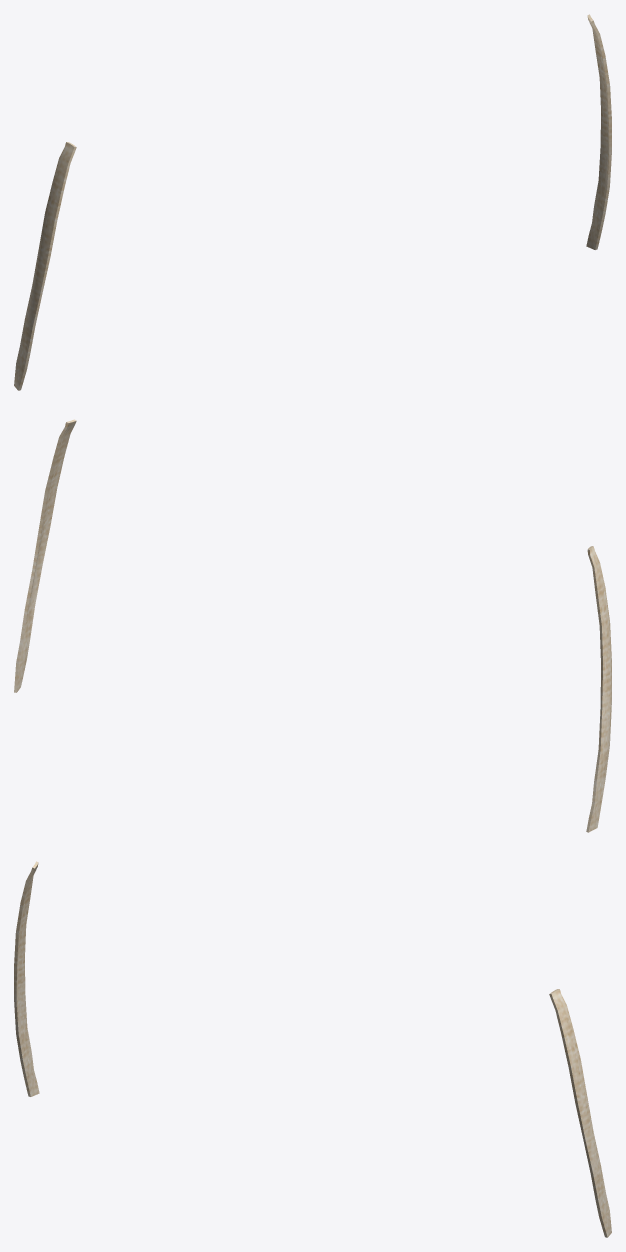
Rendered from pocket_standard.glb.
The picture shows the model from 3 angles, top to bottom: view 1: azimuth 30°, elevation 25°; view 2: azimuth 150°, elevation 25°; view 3: azimuth 330°, elevation 25°; orthographic projection.
Parts seen in each view (by area): view 1: pocket_standard1; view 2: pocket_standard1; view 3: pocket_standard1.
Part boxes in pixels (x1=…): pocket_standard1: x1=14, y1=14, x2=611, y2=390; pocket_standard1: x1=14, y1=419, x2=611, y2=832; pocket_standard1: x1=14, y1=861, x2=611, y2=1237.
Bounding box in the file's own units: 0.0505 × 0.0214 × 0.00496.
Materials: 1 (1 with a texture image).
